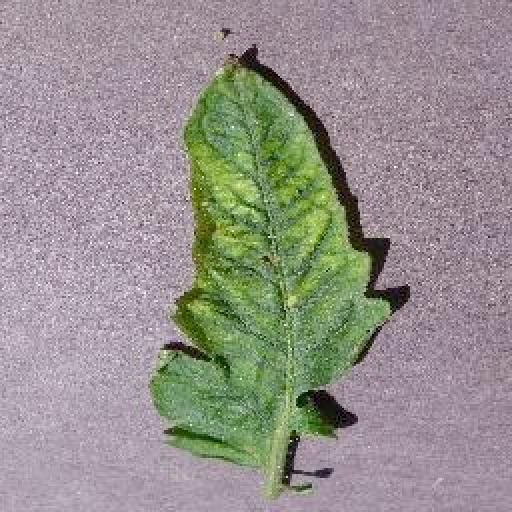Mosaic Virus: (146, 51, 390, 469)
